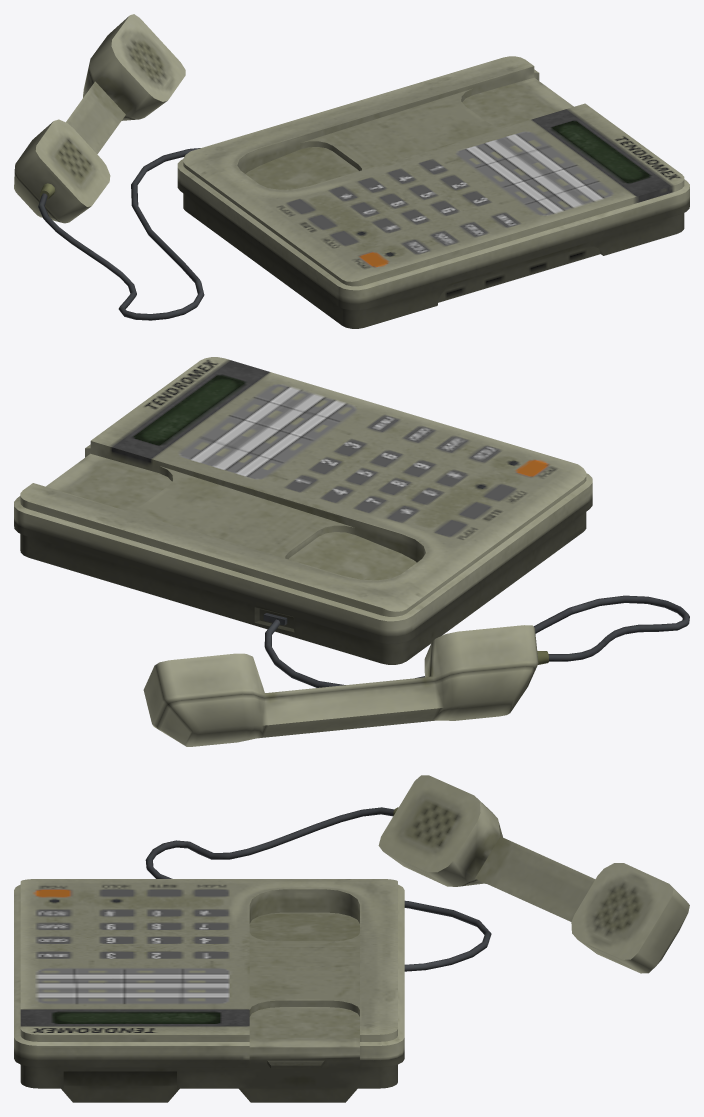
The model's file is HH_Telephone_02.fbx.
3 renders of one model, top to bottom at view 1: azimuth 30°, elevation 25°; view 2: azimuth 150°, elevation 25°; view 3: azimuth 270°, elevation 25°, orthographic. The views are drawn at different scales.
Parts seen in each view (by area): view 1: HH_Telephone_02_LOD0; view 2: HH_Telephone_02_LOD0; view 3: HH_Telephone_02_LOD0.
Part boxes in pixels (x1,y1,x2,y2): HH_Telephone_02_LOD0: (14, 14, 689, 328); HH_Telephone_02_LOD0: (14, 357, 689, 746); HH_Telephone_02_LOD0: (14, 775, 689, 1102).
Size of what is drawn, in the model's own units: 35.27 by 5.31 by 37.6.
